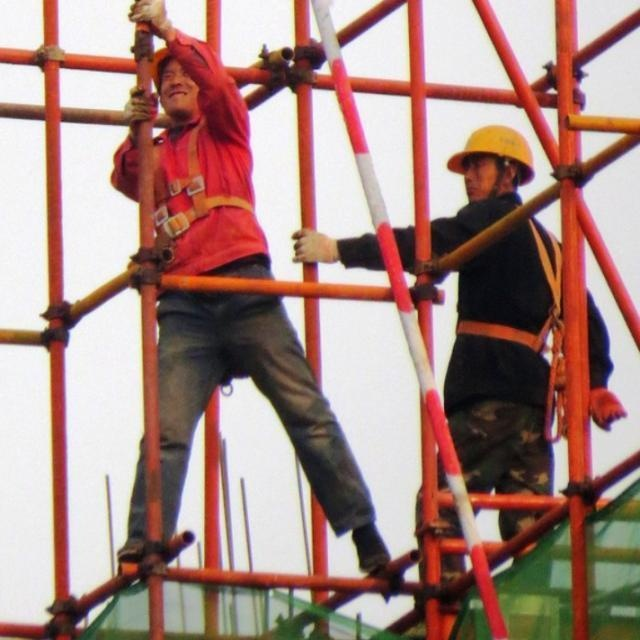Arnes_seguridad: (452, 194, 566, 384), (151, 110, 268, 242)
